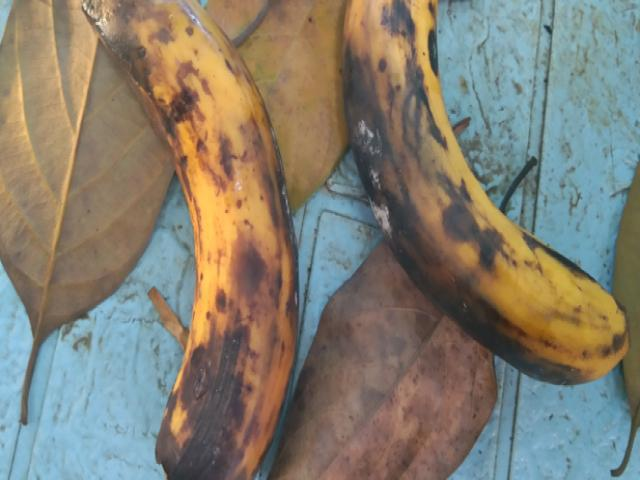rotten: (74, 0, 316, 477), (331, 0, 619, 394)
